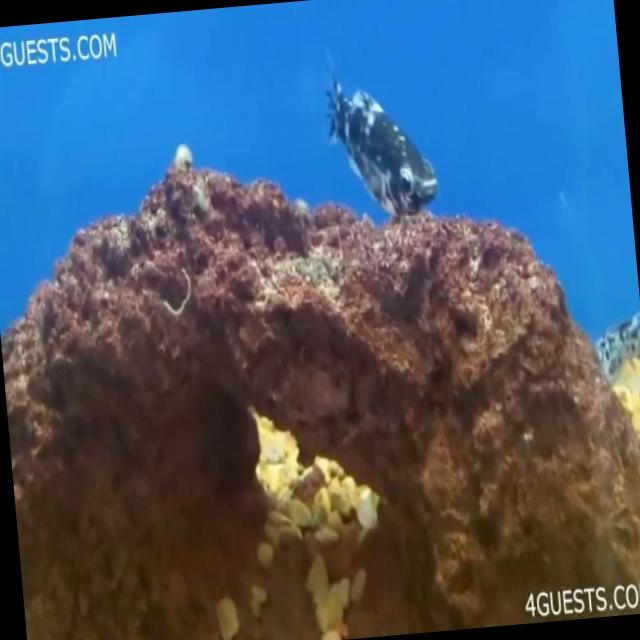PlatyFish: (300, 21, 450, 238)
